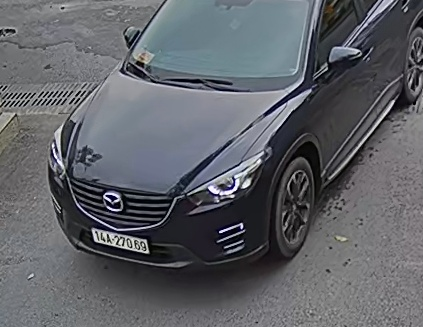vehicle plate: (89, 223, 151, 255)
